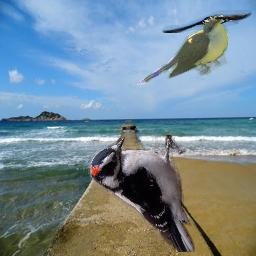Cuckoo: (136, 19, 228, 85)
Swallow: (162, 10, 252, 33)
Woodpecker: (88, 135, 195, 252)
